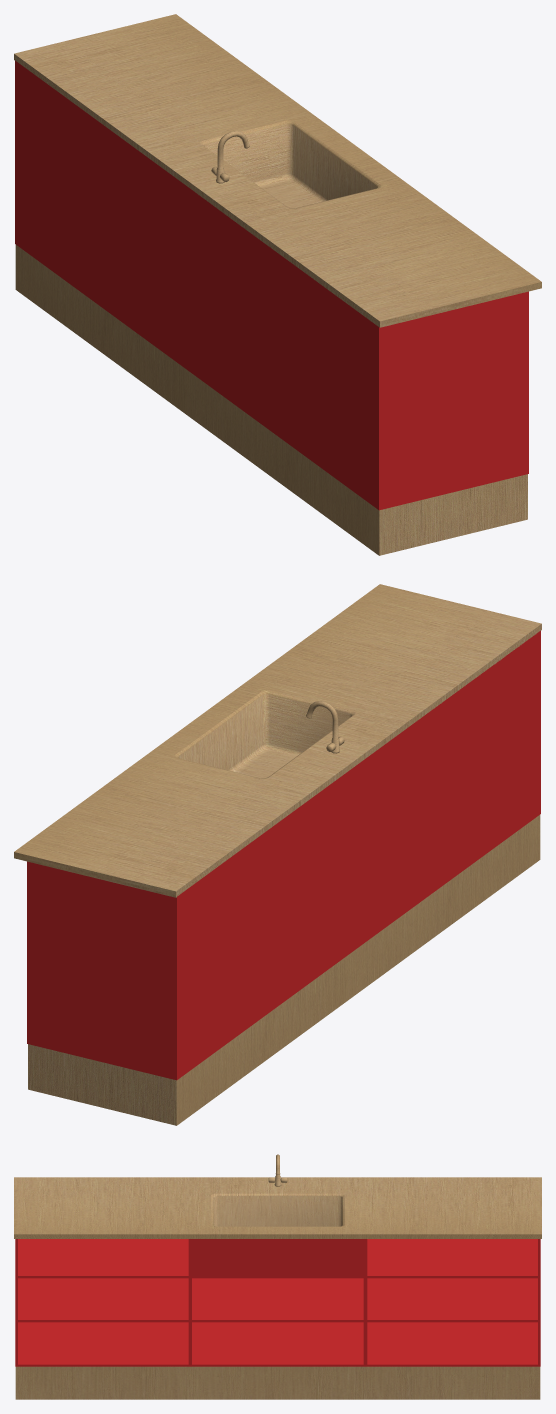
The model's file is MOD_COL_Kitchen_counter_01.fbx.
3 views of the same model, one above another, from view 1: azimuth 30°, elevation 25°; view 2: azimuth 150°, elevation 25°; view 3: azimuth 270°, elevation 25° (orthographic). The views are drawn at different scales.
Parts seen in each view (by area): view 1: HSHP_MOD_Kitchen_counter_01; view 2: HSHP_MOD_Kitchen_counter_01; view 3: HSHP_MOD_Kitchen_counter_01.
Boxes of the visible parts, left/top/right/bottom form: HSHP_MOD_Kitchen_counter_01: left=14, top=14, right=541, bottom=555; HSHP_MOD_Kitchen_counter_01: left=14, top=584, right=541, bottom=1125; HSHP_MOD_Kitchen_counter_01: left=14, top=1154, right=541, bottom=1399.
Bounding box in the file's own units: 0.7707 × 1.28 × 3.01.
